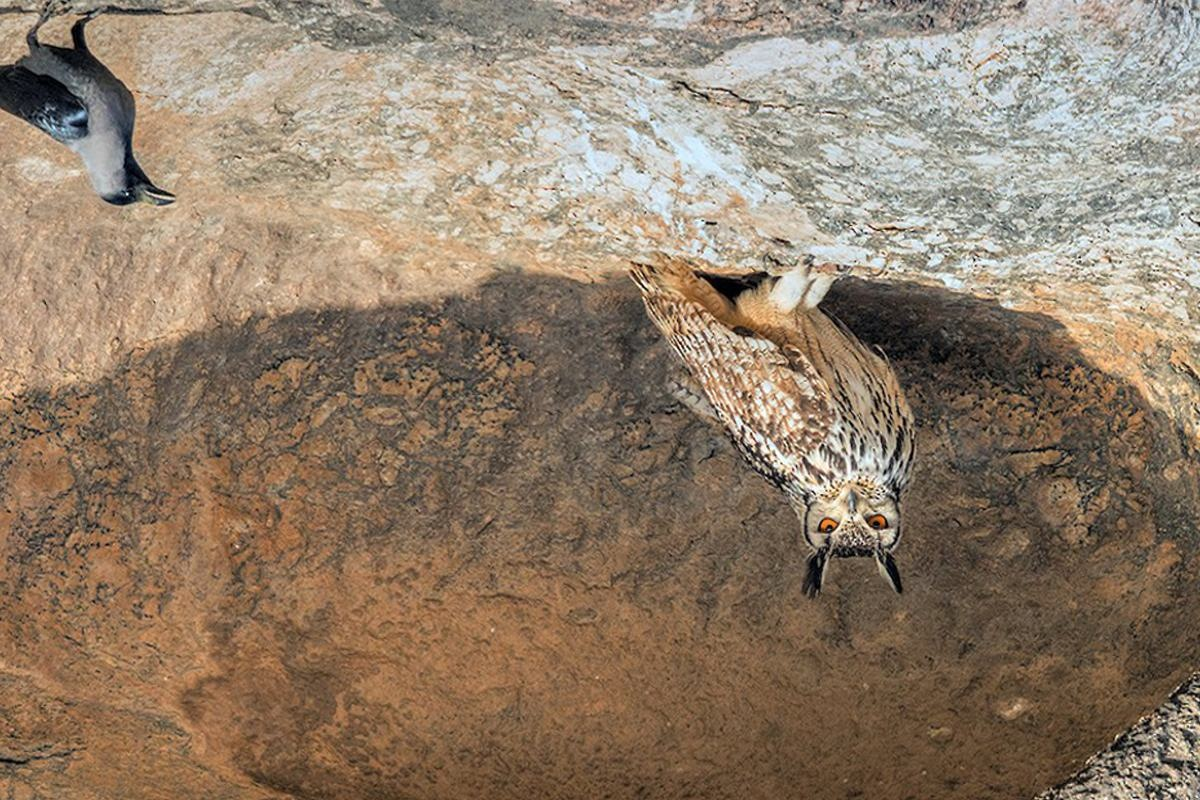crow: (1, 11, 184, 225)
